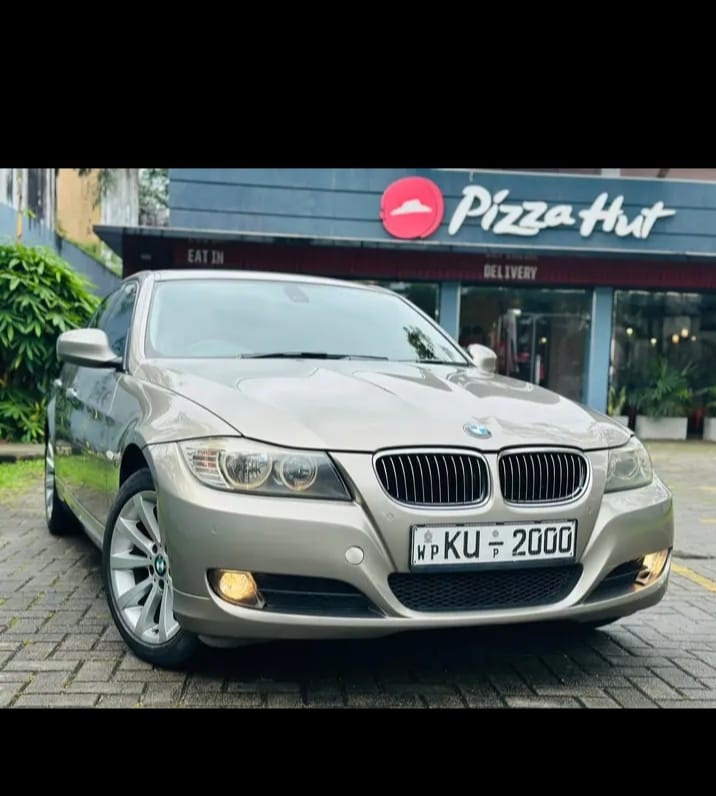number_plate: (410, 528, 577, 562)
